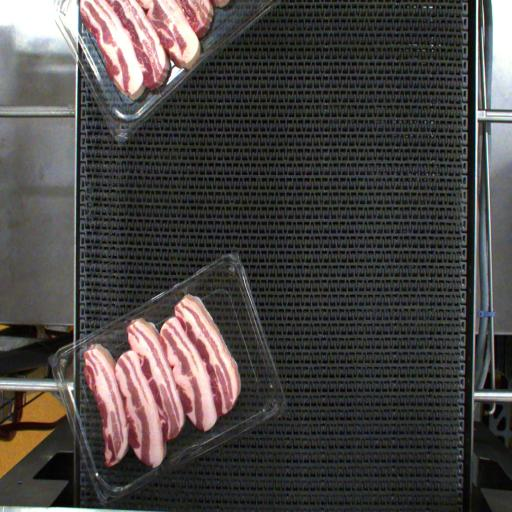packaging-error: (174, 281, 198, 304), (80, 335, 103, 359)
